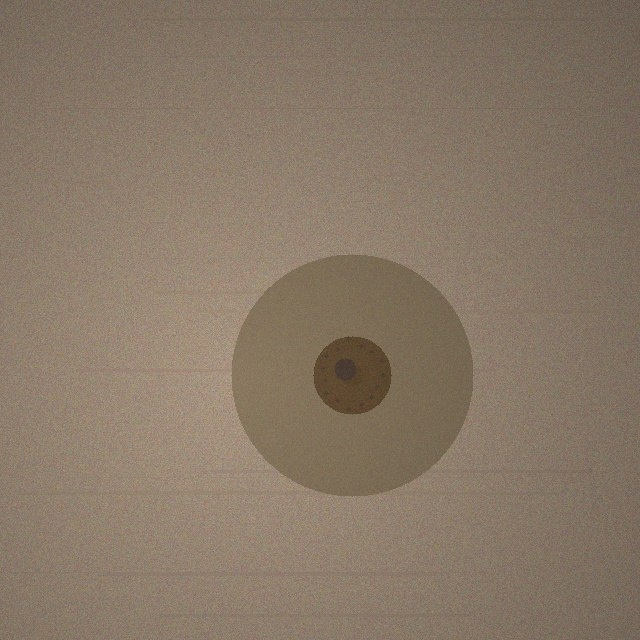cold_weld: (231, 254, 473, 496)
